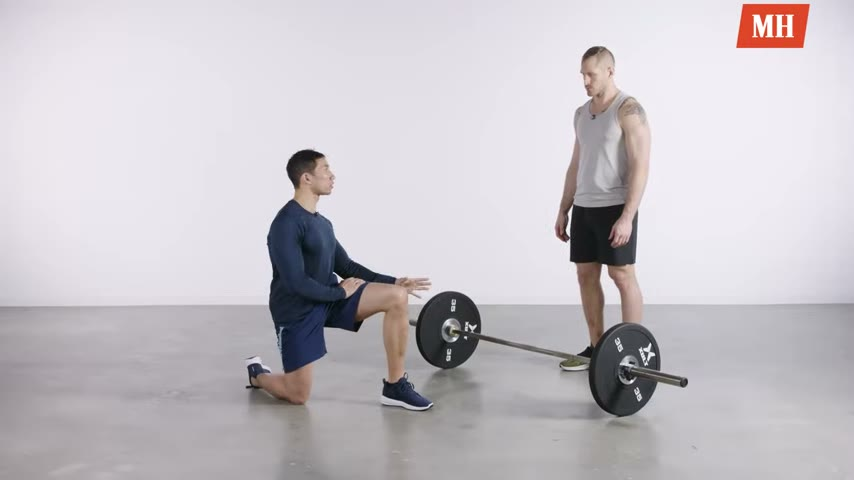barbell_plate_side: (413, 285, 487, 407), (611, 318, 690, 424)
